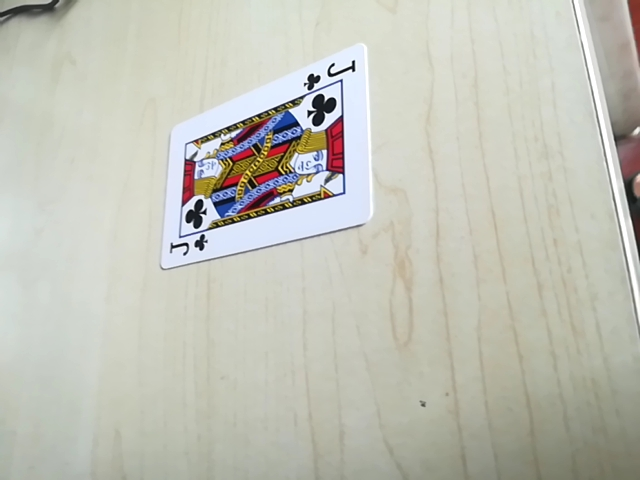mh j: (302, 57, 358, 94), (164, 229, 215, 264)
